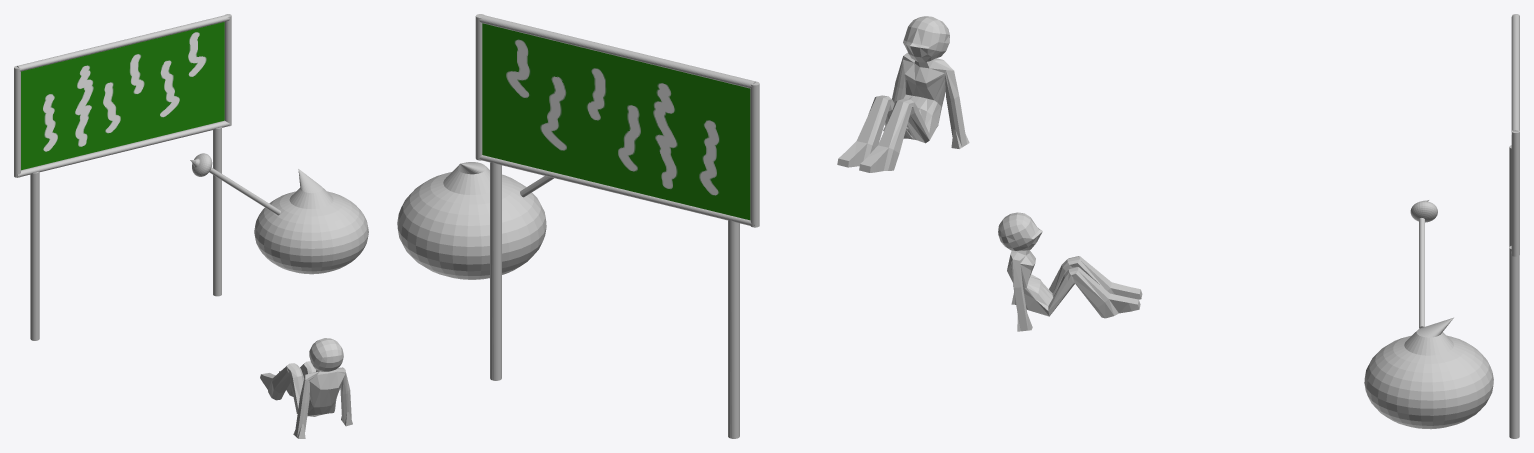
Rendered from tutorial.obj.
3 renders of one model, left to right at view 1: azimuth 30°, elevation 25°; view 2: azimuth 150°, elevation 25°; view 3: azimuth 270°, elevation 25°, orthographic. The views are drawn at different scales.
Parts seen in each view (by area): view 1: 円柱.001, 球, Cube, 円柱.002, 球.001; view 2: 円柱.001, 球, Cube; view 3: 球, Cube, 円柱.001, 円柱.002.
Part boxes in pixels (x1,y1,x2,y2): 円柱.001: (14, 14, 231, 340); 球: (254, 169, 368, 274); Cube: (260, 338, 352, 438); 円柱.002: (209, 168, 280, 215); 球.001: (190, 153, 212, 176); 円柱.001: (475, 14, 759, 438); 球: (397, 162, 546, 279); Cube: (837, 16, 969, 172); 球: (1364, 317, 1493, 429); Cube: (998, 212, 1142, 331); 円柱.001: (1509, 14, 1519, 438); 円柱.002: (1419, 218, 1424, 328).
Size of the model in its own units: 6.2 by 5.31 by 8.05.
